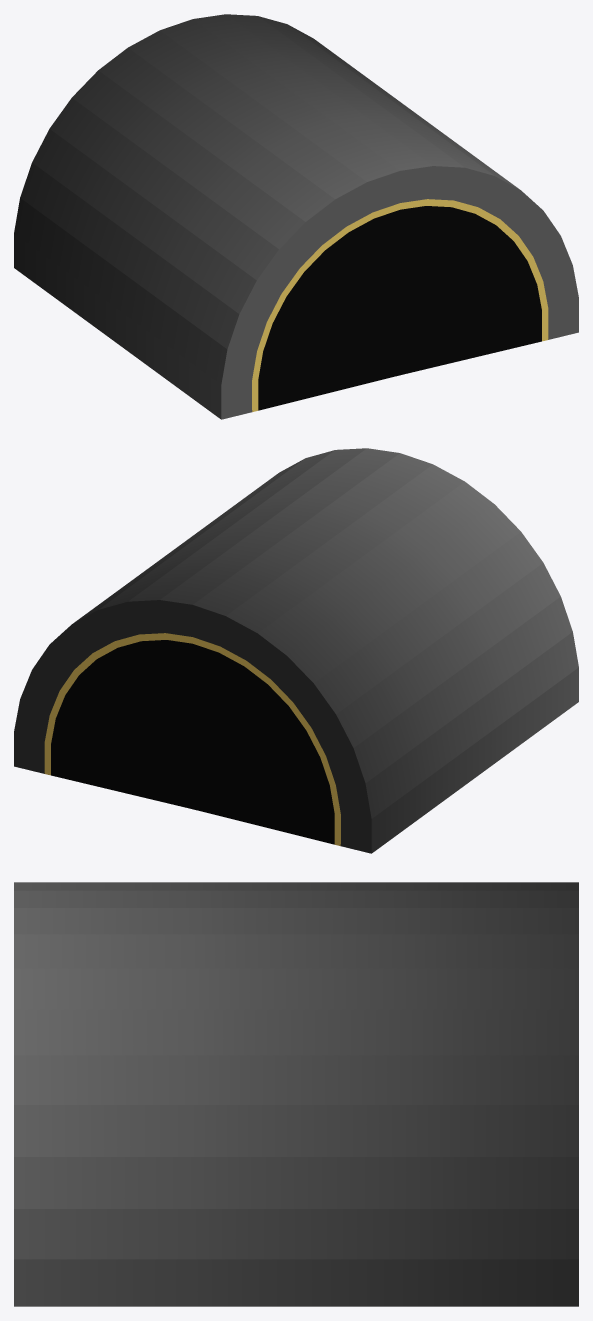
The model's file is Tunel.fbx.
3 views of the same model, one above another, from view 1: azimuth 30°, elevation 25°; view 2: azimuth 150°, elevation 25°; view 3: azimuth 270°, elevation 25° (orthographic). The views are drawn at different scales.
Visible parts, largest first — view 1: Cylinder; view 2: Cylinder; view 3: Cylinder.
Boxes of the visible parts, x1,y1,x2,y2 form: Cylinder: (14, 14, 578, 419); Cylinder: (14, 448, 578, 853); Cylinder: (14, 882, 578, 1306).
Bounding box in the file's own units: 797 × 437 × 800.
Materials: 1 (1 with a texture image).
